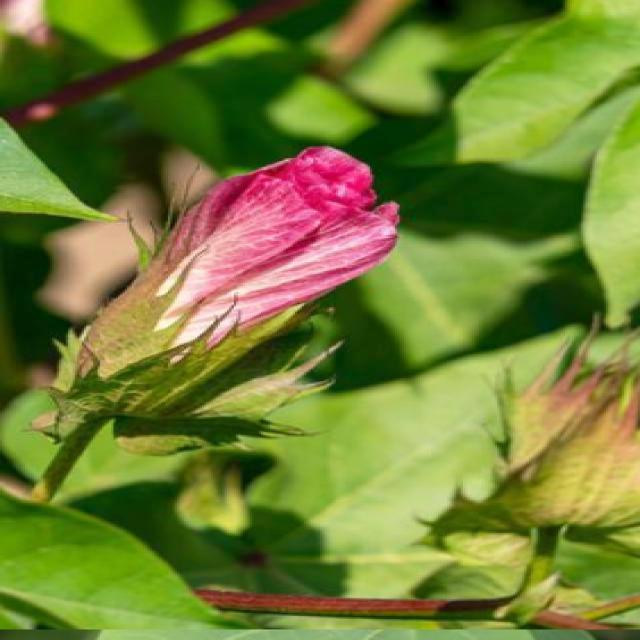Cotton Blossom: (47, 136, 410, 454)
Cotton Bud: (472, 321, 640, 537)
